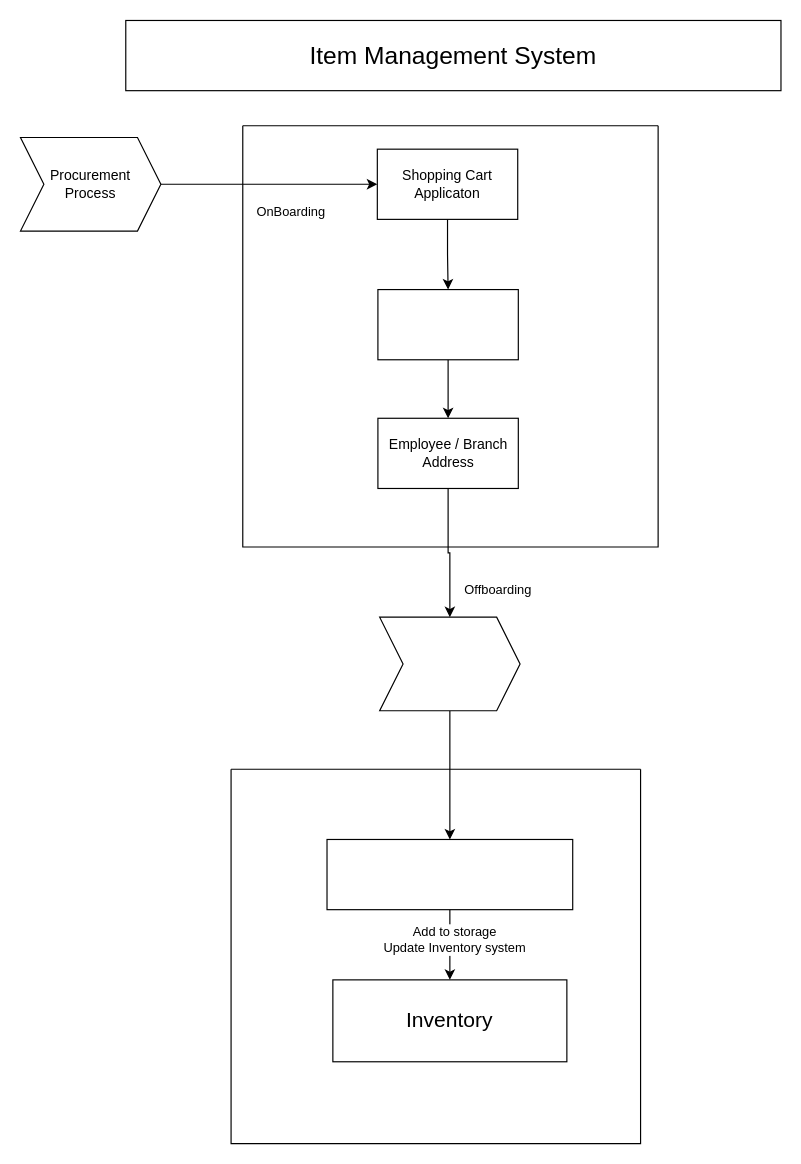
This 801x1164 diagram has some shape labels left out. The box of each missing label's shape, as (x1, y1, x2, y2) in pixels:
Delivery: (378, 616, 520, 711)
Delivery Fedex / Amazon: (377, 288, 518, 360)
Main Office: (326, 838, 573, 910)
